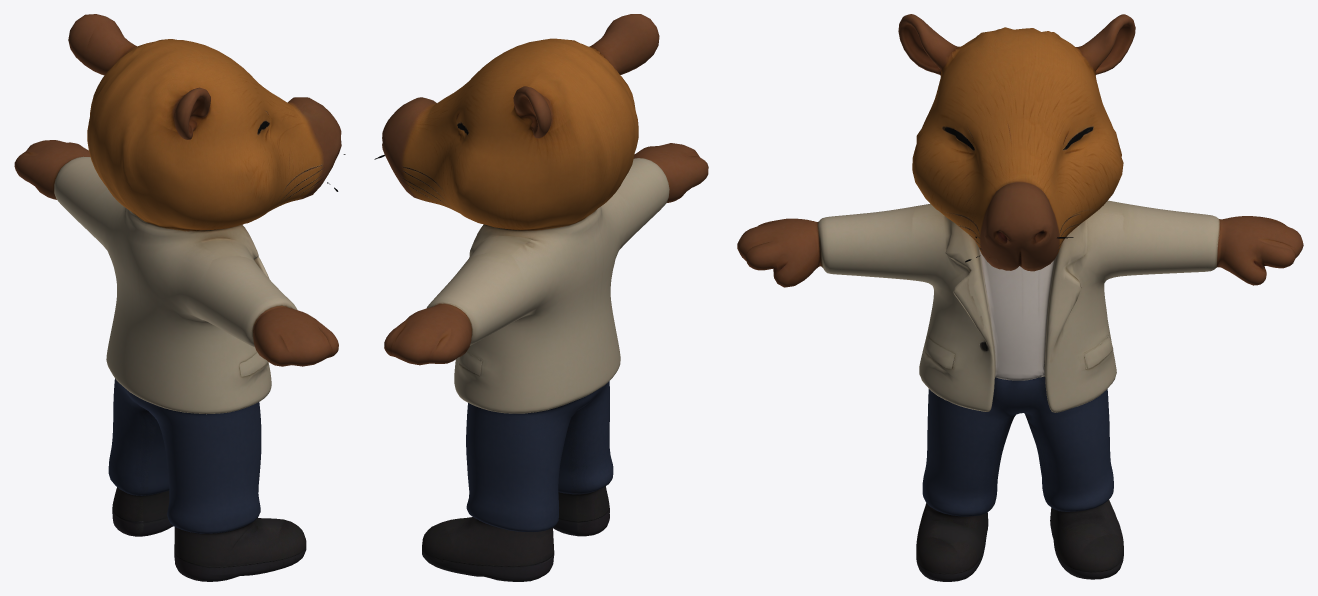
The model's file is tripo_convert_ef3b020b-8b1e-42ee-a147-56c85634c636.fbx.
3 views of the same model, side by side, from view 1: azimuth 30°, elevation 25°; view 2: azimuth 150°, elevation 25°; view 3: azimuth 270°, elevation 25° (orthographic).
Visible parts, largest first — view 1: tripo_node_ef3b020b; view 2: tripo_node_ef3b020b; view 3: tripo_node_ef3b020b.
Part boxes in pixels (<box>): tripo_node_ef3b020b: <box>14,14,345,581</box>; tripo_node_ef3b020b: <box>374,14,708,581</box>; tripo_node_ef3b020b: <box>737,14,1303,581</box>.
Size of the model in its own units: 0.485 by 0.9931 by 1.
1 material, 1 textured.
